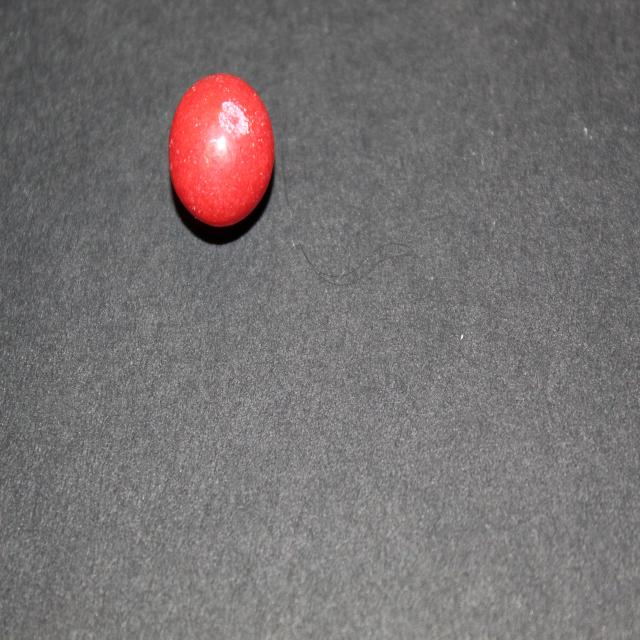smartie: (168, 73, 274, 225)
